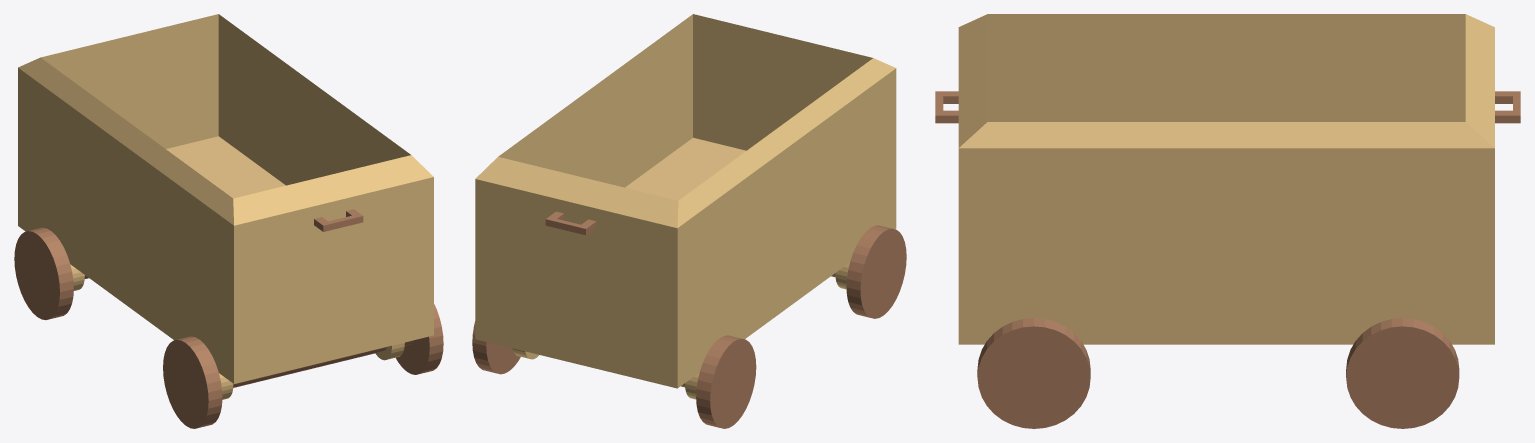
Rendered from cart1.fbx.
3 views of the same model, side by side, from view 1: azimuth 30°, elevation 25°; view 2: azimuth 150°, elevation 25°; view 3: azimuth 270°, elevation 25° (orthographic). The views are drawn at different scales.
Parts seen in each view (by area): view 1: Cube, Cylinder.009, Cylinder.002, Cylinder, Cylinder.001; view 2: Cube, Cylinder.002, Cylinder.009, Cylinder.005; view 3: Cube, Cylinder, Cylinder.005.
Boxes of the visible parts, x1,y1,x2,y2 form: Cube: (18,14,433,383); Cylinder.009: (14,227,73,319); Cylinder.002: (163,336,222,428); Cylinder: (396,304,443,374); Cylinder.001: (233,340,413,387); Cube: (475,14,896,388); Cylinder.002: (846,225,906,318); Cylinder.009: (696,335,756,428); Cylinder.005: (472,321,520,374); Cube: (935,14,1520,344); Cylinder: (977,318,1090,428); Cylinder.005: (1346,318,1459,428).
Size of the model in its own units: 251 by 238 by 436.
